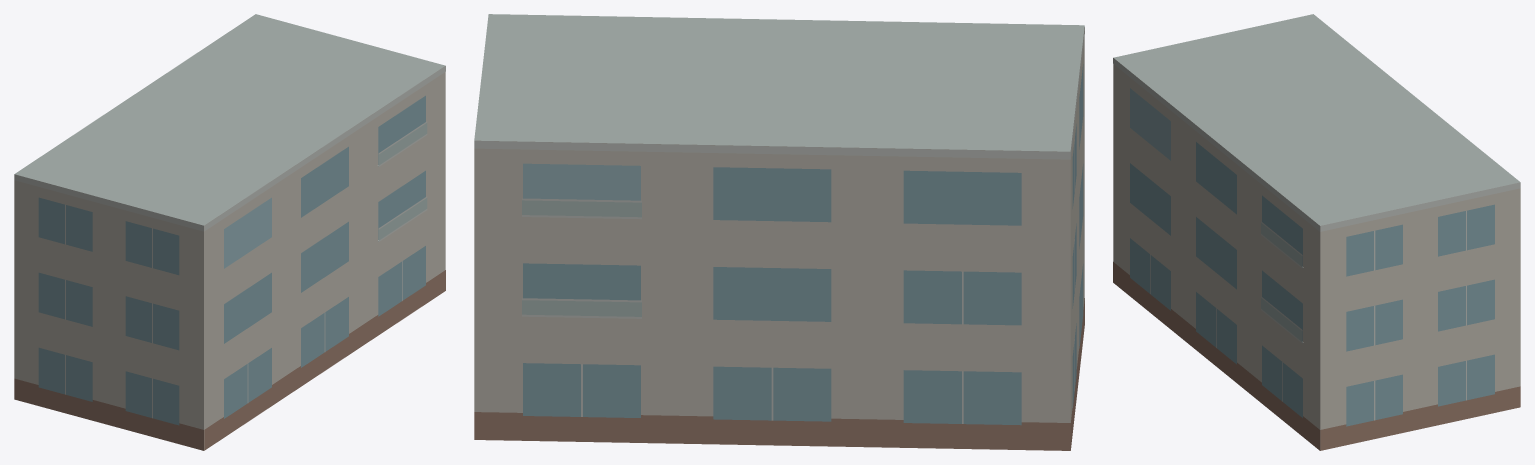
File: survey-upis-32806286.glb
The picture shows the model from 3 angles, left to right: view 1: azimuth 30°, elevation 25°; view 2: azimuth 150°, elevation 25°; view 3: azimuth 270°, elevation 25°; orthographic projection. The views are drawn at different scales.
Visible parts, largest first — view 1: survey-upis-32806286.tmp; view 2: survey-upis-32806286.tmp; view 3: survey-upis-32806286.tmp.
Part boxes in pixels (x1,y1,x2,y2): survey-upis-32806286.tmp: (14, 14, 445, 450); survey-upis-32806286.tmp: (474, 14, 1084, 450); survey-upis-32806286.tmp: (1113, 14, 1520, 450).
Bounding box in the file's own units: 18.5 × 9.15 × 15.03.
